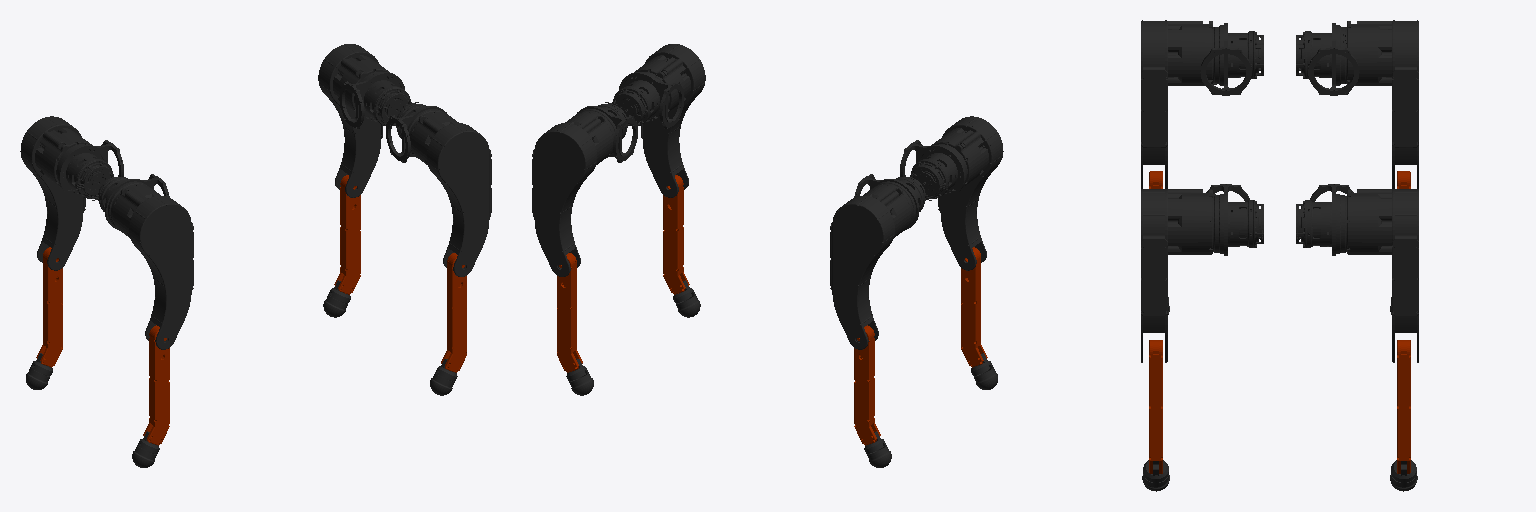
The robot description file, URDF, robot "tekirV3":
<?xml version="1.0" encoding="utf-8"?>
<!-- All knees looks in the same direction -->
<robot name="tekirV3">

  <material name="black">
    <color rgba="0.2 0.2 0.2 1"/>
  </material>
  <material name="auburn" >
    <color rgba="0.6039215686274509 0.18823529411764706 0.00392156862745098 1" />
  </material>
  <material name="olivedrab" >
    <color rgba="0.43529411764705883 0.4627450980392157 0.19607843137254902 1" />
  </material>
  
  <link name="torso">
	  <inertial>
     <origin xyz="0.00145 0.003271 0.01792" rpy="0 0 0"/>  <!-- 0.00145 0.003271 0.01792 -->
     <mass value="20.516"/>
     <inertia ixx="0.41"  ixy="0.003"  ixz="-0.012" iyy="0.908" iyz="0.007" izz="1.192" />
    </inertial>
    <visual>
     <origin xyz="0 0 0" rpy="0 0 0" />
     <geometry>
      <mesh filename="../mesh/torso_rs.stl" scale="0.001 0.001 0.001"/>
     </geometry>
     <material name="black"></material>
    </visual>
    <collision>
     <origin xyz="0 0 0" rpy="0 0 0"/>
     <geometry>
       <box size="0.576 0.358 0.202"/>
     </geometry>
    </collision> 
  </link>

  <!-- Leg LF -->

  <link name="HIP_FE_Motor_lf">
	  <inertial>
     <origin xyz="0.075283 -0.015862 -0.000015" rpy="0 0 0"/>
     <mass value="1.681"/>
     <inertia ixx="0.003"  ixy="9.851e-5"  ixz="-1.213e-6" iyy="0.003" iyz="-1.327e-6" izz="0.003" />
    </inertial>
	  <visual>
     <origin xyz="0.079 0 0" rpy="0 0 1.57079632679" />
     <geometry>
       <mesh filename="../mesh/actuator_hip_fe.stl" scale="0.001 0.001 0.001"/>
     </geometry>
     <material name="black"></material>
    </visual>
	  <collision>
     <origin xyz="0.079 -0.0264 0" rpy="1.57079632679 0 0"/>
     <geometry>
       <cylinder radius="0.0625" length="0.1052"/>
     </geometry>
    </collision>
  </link>

  <link name="thigh_lf">
	  <inertial>
     <origin xyz="-0.003917 0.076506 -0.013793" rpy="0 0 0"/>
     <mass value="2.005"/>
     <inertia ixx="0.008"  ixy="-1.818e-4"  ixz="5.307e-4" iyy="0.007" iyz="0.001" izz="0.004" />
    </inertial>
	  <visual>
     <origin xyz="0 0 0" rpy="0 0 0" />
     <geometry>
       <mesh filename="../mesh/thigh_L.stl" scale="0.001 0.001 0.001"/>
     </geometry>
     <material name="black"></material>
    </visual>
	  <collision>
     <origin xyz="0 0.1136015 -0.135" rpy="0 0 0"/>
     <geometry>
       <box size="0.04 0.053203 0.27"/>
     </geometry>
    </collision>
  </link>

  <link name="shank_lf">
	  <inertial>
     <origin xyz="-0.015346 -0.000102 -0.186842" rpy="0 0 0"/>
     <mass value="0.21"/>
     <inertia ixx="0.002"  ixy="-7.048e-7"  ixz="-2.682e-4" iyy="0.002" iyz="-1.088e-5" izz="1.086e-4" />
    </inertial>
	  <visual>
     <origin xyz="0 0 0" rpy="0 0 1.57079632679" />
     <geometry>
       <mesh filename="../mesh/shank.stl" scale="0.001 0.001 0.001"/>
     </geometry>
     <material name="auburn"></material>
    </visual>
	  <collision>
     <origin xyz="0 0 -0.112141" rpy="0 0 0"/>
     <geometry>
       <box size="0.04 0.026 0.224282"/> 
     </geometry>
    </collision>
  </link>

  <link name="foot_lf">
	  <inertial>
     <origin xyz="0 0 -0.003546" rpy="0 0 0"/>
     <mass value="0"/>
     <inertia ixx="0"  ixy="0"  ixz="0" iyy="0" iyz="0" izz="0" />
    </inertial>
	  <visual>
     <origin xyz="0 0 -0.043933" rpy="0 0 0" />
     <geometry>
       <mesh filename="../mesh/foot.stl" scale="0.001 0.001 0.001"/>
     </geometry>
     <material name="black"></material>
    </visual>
	  <collision>
     <origin xyz="0 0 -0.080131" rpy="0 0 0"/>
     <geometry>
       <sphere radius="0.027"/>
     </geometry>
    </collision>
  </link>

  <!-- Leg RF -->

  <link name="HIP_FE_Motor_rf">
	  <inertial>
     <origin xyz="0.075283 0.015862 -0.000015" rpy="0 0 0"/>
     <mass value="1.681"/>
     <inertia ixx="0.003"  ixy="9.851e-5"  ixz="-1.213e-6" iyy="0.003" iyz="-1.327e-6" izz="0.003" />
    </inertial>
	  <visual>
     <origin xyz="0.079 0 0" rpy="3.14159265 0 -1.57079632679" />
     <geometry>
       <mesh filename="../mesh/actuator_hip_fe.stl" scale="0.001 0.001 0.001"/>
     </geometry>
     <material name="black"></material>
    </visual>
	  <collision>
     <origin xyz="0.079 0.0264 0" rpy="1.57079632679 0 0"/>
     <geometry>
       <cylinder radius="0.0625" length="0.1052"/>
     </geometry>
    </collision>
  </link>

  <link name="thigh_rf">
	  <inertial>
     <origin xyz="-0.003917 -0.076506 -0.013793" rpy="0 0 0"/>
     <mass value="2.005"/>
     <inertia ixx="0.008"  ixy="-1.818e-4"  ixz="5.307e-4" iyy="0.007" iyz="0.001" izz="0.004" />
    </inertial>
	  <visual>
     <origin xyz="0 0 0" rpy="0 0 0" />
     <geometry>
       <mesh filename="../mesh/thigh_R.stl" scale="0.001 0.001 0.001"/>
     </geometry>
     <material name="black"></material>
    </visual>
	  <collision>
     <origin xyz="0 -0.1136015 -0.135" rpy="0 0 0"/>
     <geometry>
       <box size="0.04 0.053203 0.27"/>
     </geometry>
    </collision>
  </link>

  <link name="shank_rf">
	  <inertial>
     <origin xyz="-0.015346 0.000102 -0.186842" rpy="0 0 0"/>
     <mass value="0.21"/>
     <inertia ixx="0.002"  ixy="-7.048e-7"  ixz="-2.682e-4" iyy="0.002" iyz="-1.088e-5" izz="1.086e-4" />
    </inertial>
	  <visual>
     <origin xyz="0 0 0" rpy="0 0 1.57079632679" />
     <geometry>
       <mesh filename="../mesh/shank.stl" scale="0.001 0.001 0.001"/>
     </geometry>
     <material name="auburn"></material>
    </visual>
	  <collision>
     <origin xyz="0 0 -0.112141" rpy="0 0 0"/>
     <geometry>
       <box size="0.04 0.026 0.224282"/>
     </geometry>
    </collision>
  </link>

  <link name="foot_rf">
	  <inertial>
     <origin xyz="0 0 -0.003546" rpy="0 0 0"/>
     <mass value="0"/>
     <inertia ixx="0"  ixy="0"  ixz="0" iyy="0" iyz="0" izz="0" />
    </inertial>
	  <visual>
     <origin xyz="0 0 -0.043933" rpy="0 0 0" />
     <geometry>
       <mesh filename="../mesh/foot.stl" scale="0.001 0.001 0.001"/>
     </geometry>
     <material name="black"></material>
    </visual>
	  <collision>
     <origin xyz="0 0 -0.080131" rpy="0 0 0"/>
     <geometry>
       <sphere radius="0.027"/>
     </geometry>
    </collision>
  </link>

  <!-- Leg LB -->

  <link name="HIP_FE_Motor_lb">
	  <inertial>
     <origin xyz="-0.075283 -0.015862 -0.000015" rpy="0 0 0"/>
     <mass value="1.681"/>
     <inertia ixx="0.003"  ixy="9.851e-5"  ixz="-1.213e-6" iyy="0.003" iyz="-1.327e-6" izz="0.003" />
    </inertial>
	  <visual>
     <origin xyz="-0.079 0 0" rpy="0 3.14159265 -1.57079632679" />
     <geometry>
       <mesh filename="../mesh/actuator_hip_fe.stl" scale="0.001 0.001 0.001"/>
     </geometry>
     <material name="black"></material>
    </visual>
	  <collision>
     <origin xyz="-0.079 -0.0264 0" rpy="1.57079632679 0 0"/>
     <geometry>
       <cylinder radius="0.0625" length="0.1052"/>
     </geometry>
    </collision>
  </link>

  <link name="thigh_lb">
	  <inertial>
     <origin xyz="0.003917 0.076506 -0.013793" rpy="0 0 0"/>
     <mass value="2.005"/>
     <inertia ixx="0.008"  ixy="-1.818e-4"  ixz="5.307e-4" iyy="0.007" iyz="0.001" izz="0.004" />
    </inertial>
	  <visual>
     <origin xyz="0 0 0" rpy="0 0 0" />
     <geometry>
       <mesh filename="../mesh/thigh_L.stl" scale="0.001 0.001 0.001"/>
     </geometry>
     <material name="black"></material>
    </visual>
	  <collision>
     <origin xyz="0 0.1136015 -0.135" rpy="0 0 0"/>
     <geometry>
       <box size="0.04 0.053203 0.27"/>
     </geometry>
    </collision>
  </link>

  <link name="shank_lb">
	  <inertial>
     <origin xyz="-0.015346 -0.000102 -0.186842" rpy="0 0 0"/>
     <mass value="0.21"/>
     <inertia ixx="0.002"  ixy="-7.048e-7"  ixz="-2.682e-4" iyy="0.002" iyz="-1.088e-5" izz="1.086e-4" />
    </inertial>
	  <visual>
     <origin xyz="0 0 0" rpy="0 0 1.57079632679" />
     <geometry>
       <mesh filename="../mesh/shank.stl" scale="0.001 0.001 0.001"/>
     </geometry>
     <material name="auburn"></material>
    </visual>
	  <collision>
     <origin xyz="0 0 -0.112141" rpy="0 0 0"/>
     <geometry>
       <box size="0.04 0.026 0.224282"/>
     </geometry>
    </collision>
  </link>

  <link name="foot_lb">
	  <inertial>
     <origin xyz="0 0 -0.003546" rpy="0 0 0"/>
     <mass value="0"/>
     <inertia ixx="0"  ixy="0"  ixz="0" iyy="0" iyz="0" izz="0" />
    </inertial>
	  <visual>
     <origin xyz="0 0 -0.043933" rpy="0 0 0" />
     <geometry>
       <mesh filename="../mesh/foot.stl" scale="0.001 0.001 0.001"/>
     </geometry>
     <material name="black"></material>
    </visual>
	  <collision>
     <origin xyz="0 0 -0.080131" rpy="0 0 0"/>
     <geometry>
       <sphere radius="0.027"/>
     </geometry>
    </collision>
  </link>

  <!-- Leg RB -->

  <link name="HIP_FE_Motor_rb">
	  <inertial>
     <origin xyz="-0.075283 0.015862 -0.000015" rpy="0 0 0"/>
     <mass value="1.681"/>
     <inertia ixx="0.003"  ixy="9.851e-5"  ixz="-1.213e-6" iyy="0.003" iyz="-1.327e-6" izz="0.003" />
    </inertial>
	  <visual>
     <origin xyz="-0.079 0 0" rpy="0 0 -1.57079632679" />
     <geometry>
       <mesh filename="../mesh/actuator_hip_fe.stl" scale="0.001 0.001 0.001"/>
     </geometry>
     <material name="black"></material>
    </visual>
	  <collision>
     <origin xyz="-0.079 0.0264 0" rpy="1.57079632679 0 0"/>
     <geometry>
       <cylinder radius="0.0625" length="0.1052"/>
     </geometry>
    </collision>
  </link>

  <link name="thigh_rb">
	  <inertial>
     <origin xyz="0.003917 -0.076506 -0.013793" rpy="0 0 0"/>
     <mass value="2.005"/>
     <inertia ixx="0.008"  ixy="-1.818e-4"  ixz="5.307e-4" iyy="0.007" iyz="0.001" izz="0.004" />
    </inertial>
	  <visual>
     <origin xyz="0 0 0" rpy="0 0 0" />
     <geometry>
       <mesh filename="../mesh/thigh_R.stl" scale="0.001 0.001 0.001"/>
     </geometry>
     <material name="black"></material>
    </visual>
	  <collision>
     <origin xyz="0 -0.1136015 -0.135" rpy="0 0 0"/>
     <geometry>
       <box size="0.04 0.053203 0.27"/>
     </geometry>
    </collision>
  </link>
  
  <link name="shank_rb">
	  <inertial>
     <origin xyz="-0.015346 0.000102 -0.186842" rpy="0 0 0"/>
     <mass value="0.21"/>
     <inertia ixx="0.002"  ixy="-7.048e-7"  ixz="-2.682e-4" iyy="0.002" iyz="-1.088e-5" izz="1.086e-4" />
    </inertial>
	  <visual>
     <origin xyz="0 0 0" rpy="0 0 1.57079632679" />
     <geometry>
       <mesh filename="../mesh/shank.stl" scale="0.001 0.001 0.001"/>
     </geometry>
     <material name="auburn"></material>
    </visual>
	  <collision>
     <origin xyz="0 0 -0.112141" rpy="0 0 0"/>
     <geometry>
       <box size="0.04 0.026 0.224282"/>
     </geometry>
    </collision>
  </link>

  <link name="foot_rb">
	  <inertial>
     <origin xyz="0 0 -0.003546" rpy="0 0 0"/>
     <mass value="0"/>
     <inertia ixx="0"  ixy="0"  ixz="0" iyy="0" iyz="0" izz="0" />
    </inertial>
	  <visual>
     <origin xyz="0 0 -0.043933" rpy="0 0 0" />
     <geometry>
       <mesh filename="../mesh/foot.stl" scale="0.001 0.001 0.001"/>
     </geometry>
     <material name="black"></material>
    </visual>
	  <collision>
     <origin xyz="0 0 -0.080131" rpy="0 0 0"/>
     <geometry>
       <sphere radius="0.027"/>
     </geometry>
    </collision>
  </link>

  
  <!-- Joints -->

  <!-- LEG LF -->

  <joint name="Joint_HIP_AA_lf" type="revolute">
    <parent link="torso"/>
    <child link="HIP_FE_Motor_lf"/>
    <axis xyz="1 0 0"/>
    <origin xyz="0.3102 0.105 0.002" rpy="0 0 0"/>
    <limit effort="50" lower="0" upper="0" velocity="8.29031393750349"/>
    <dynamics damping="0.0" friction="0.0"/>
  </joint>

  <joint name="Joint_HIP_FE_lf" type="revolute">
    <parent link="HIP_FE_Motor_lf"/>
    <child link="thigh_lf"/>
    <axis xyz="0 1 0"/>
    <origin xyz="0.079 0.0262 0" rpy="0 0 0"/>
    <limit effort="50" lower="0" upper="0" velocity="8.29031393750349"/>
    <dynamics damping="0.0" friction="0.0"/>
  </joint>

  <joint name="Joint_KNEE_FE_lf" type="revolute">
    <parent link="thigh_lf"/>
    <child link="shank_lf"/>
    <axis xyz="0 1 0"/>
    <origin xyz="0 0.1102 -0.27" rpy="0 0 0"/>
    <limit effort="50" lower="0" upper="0" velocity="8.29031393750349"/>
    <dynamics damping="0.0" friction="0.0"/>
  </joint>

  <joint name="footFrame_lf" type="fixed"> 
    <parent link="shank_lf"/>
    <child link="foot_lf"/>
    <axis xyz="0 0 0"/>
    <origin xyz="0 0 -0.224282" rpy="0 0.52359877559 0"/>  <!-- 0.52359877559 -->
  </joint>

  <!-- LEG RF -->

  <joint name="Joint_HIP_AA_rf" type="revolute">
    <parent link="torso"/>
    <child link="HIP_FE_Motor_rf"/>
    <axis xyz="1 0 0"/>
    <origin xyz="0.3102 -0.105 0.002" rpy="0 0 0"/>
    <limit effort="50" lower="0" upper="0" velocity="8.29031393750349"/>
    <dynamics damping="0.0" friction="0.0"/>
  </joint>

  <joint name="Joint_HIP_FE_rf" type="revolute">
    <parent link="HIP_FE_Motor_rf"/>
    <child link="thigh_rf"/>
    <axis xyz="0 -1 0"/>
    <origin xyz="0.079 -0.0262 0" rpy="0 0 0"/>
    <limit effort="50" lower="0" upper="0" velocity="8.29031393750349"/>
    <dynamics damping="0.0" friction="0.0"/>
  </joint>

  <joint name="Joint_KNEE_FE_rf" type="revolute">
    <parent link="thigh_rf"/>
    <child link="shank_rf"/>
    <axis xyz="0 -1 0"/>
    <origin xyz="0 -0.1102 -0.27" rpy="0 0 0"/>
    <limit effort="50" lower="0" upper="0" velocity="8.29031393750349"/>
    <dynamics damping="0.0" friction="0.0"/>
  </joint>

  <joint name="footFrame_rf" type="fixed">
    <parent link="shank_rf"/>
    <child link="foot_rf"/>
    <axis xyz="0 0 0"/>
    <origin xyz="0 0 -0.224282" rpy="0 0.52359877559 0"/>
  </joint>

  <!-- LEG LB -->

  <joint name="Joint_HIP_AA_lb" type="revolute">
    <parent link="torso"/>
    <child link="HIP_FE_Motor_lb"/>
    <axis xyz="-1 0 0"/>
    <origin xyz="-0.3102 0.105 0.002" rpy="0 0 0"/>
    <limit effort="50" lower="0" upper="0" velocity="8.29031393750349"/>
    <dynamics damping="0.0" friction="0.0"/>
  </joint>

  <joint name="Joint_HIP_FE_lb" type="revolute">
    <parent link="HIP_FE_Motor_lb"/>
    <child link="thigh_lb"/>
    <axis xyz="0 1 0"/>
    <origin xyz="-0.079 0.0262 0" rpy="0 0 0"/>
    <limit effort="50" lower="0" upper="0" velocity="8.29031393750349"/>
    <dynamics damping="0.0" friction="0.0"/>
  </joint>

  <joint name="Joint_KNEE_FE_lb" type="revolute">
    <parent link="thigh_lb"/>
    <child link="shank_lb"/>
    <axis xyz="0 1 0"/>
    <origin xyz="0 0.1102 -0.27" rpy="0 0 0"/>
    <limit effort="50" lower="0" upper="0" velocity="8.29031393750349"/>
    <dynamics damping="0.0" friction="0.0"/>
  </joint>

  <joint name="footFrame_lb" type="fixed">
    <parent link="shank_lb"/>
    <child link="foot_lb"/>
    <axis xyz="0 0 0"/>
    <origin xyz="0 0 -0.224282" rpy="0 0.52359877559 0"/>
  </joint>

  <!-- LEG RB -->
  
  <joint name="Joint_HIP_AA_rb" type="revolute">
    <parent link="torso"/>
    <child link="HIP_FE_Motor_rb"/>
    <axis xyz="-1 0 0"/>
    <origin xyz="-0.3102 -0.105 0.002" rpy="0 0 0"/>
    <limit effort="50" lower="0" upper="0" velocity="8.29031393750349"/>
    <dynamics damping="0.0" friction="0.0"/>
  </joint>

  <joint name="Joint_HIP_FE_rb" type="revolute">
    <parent link="HIP_FE_Motor_rb"/>
    <child link="thigh_rb"/>
    <axis xyz="0 -1 0"/>
    <origin xyz="-0.079 -0.0262 0" rpy="0 0 0"/>
    <limit effort="50" lower="0" upper="0" velocity="8.29031393750349"/>
    <dynamics damping="0.0" friction="0.0"/>
  </joint>  
  
  <joint name="Joint_KNEE_FE_rb" type="revolute">
    <parent link="thigh_rb"/>
    <child link="shank_rb"/>
    <axis xyz="0 -1 0"/>
    <origin xyz="0 -0.1102 -0.27" rpy="0 0 0"/>
    <limit effort="50" lower="0" upper="0" velocity="8.29031393750349"/>
    <dynamics damping="0.0" friction="0.0"/>
  </joint>

  <joint name="footFrame_rb" type="fixed">
    <parent link="shank_rb"/>
    <child link="foot_rb"/>
    <axis xyz="0 0 0"/>
    <origin xyz="0 0 -0.224282" rpy="0 0.52359877559 0"/>
  </joint>

</robot>

--- Render facts (derived) ---
The picture shows the robot from 3 angles, left to right: view 1: azimuth 30°, elevation 25°; view 2: azimuth 150°, elevation 25°; view 3: azimuth 270°, elevation 25°; orthographic projection.
Model tekirV3 with 17 links and 16 joints (12 revolute, 4 fixed), rooted at torso, posed every joint at zero.
Links seen in each view (by area): view 1: thigh_rf, thigh_rb, thigh_lb, thigh_lf, HIP_FE_Motor_lf, HIP_FE_Motor_lb, shank_rb, shank_lf, shank_rf, shank_lb, HIP_FE_Motor_rf, HIP_FE_Motor_rb (+4 smaller); view 2: thigh_lf, thigh_lb, thigh_rb, thigh_rf, HIP_FE_Motor_rf, HIP_FE_Motor_rb, shank_lb, shank_rf, shank_lf, shank_rb, HIP_FE_Motor_lf, HIP_FE_Motor_lb (+4 smaller); view 3: thigh_lf, thigh_rf, thigh_lb, thigh_rb, HIP_FE_Motor_rb, HIP_FE_Motor_lb, HIP_FE_Motor_rf, HIP_FE_Motor_lf, shank_lf, shank_rf, foot_lf, foot_rf.
Link boxes in pixels (x1,y1,x2,y2): thigh_rf: [410, 112, 491, 276]; thigh_rb: [113, 185, 193, 349]; thigh_lb: [20, 116, 91, 270]; thigh_lf: [318, 44, 388, 197]; HIP_FE_Motor_lf: [339, 72, 418, 128]; HIP_FE_Motor_lb: [56, 140, 123, 198]; shank_rb: [143, 325, 169, 445]; shank_lf: [334, 175, 360, 294]; shank_rf: [441, 253, 466, 372]; shank_lb: [36, 247, 62, 367]; HIP_FE_Motor_rf: [386, 104, 446, 162]; HIP_FE_Motor_rb: [91, 174, 169, 230]; thigh_lf: [532, 112, 613, 276]; thigh_lb: [830, 185, 910, 349]; thigh_rb: [932, 116, 1003, 270]; thigh_rf: [635, 44, 705, 197]; HIP_FE_Motor_rf: [605, 72, 684, 128]; HIP_FE_Motor_rb: [900, 140, 967, 198]; shank_lb: [854, 325, 880, 445]; shank_rf: [663, 175, 689, 294]; shank_lf: [557, 253, 582, 372]; shank_rb: [961, 247, 987, 367]; HIP_FE_Motor_lf: [577, 104, 637, 162]; HIP_FE_Motor_lb: [854, 174, 932, 230]; thigh_lf: [1347, 189, 1418, 362]; thigh_rf: [1141, 189, 1212, 362]; thigh_lb: [1347, 20, 1418, 188]; thigh_rb: [1141, 20, 1212, 188]; HIP_FE_Motor_rb: [1200, 23, 1263, 95]; HIP_FE_Motor_lb: [1296, 23, 1359, 95]; HIP_FE_Motor_rf: [1206, 184, 1263, 255]; HIP_FE_Motor_lf: [1296, 184, 1353, 255]; shank_lf: [1397, 340, 1410, 473]; shank_rf: [1149, 340, 1162, 473]; foot_lf: [1390, 460, 1417, 491]; foot_rf: [1142, 460, 1169, 491].
Size in the robot's own frame: 0.9194 by 0.5428 by 0.6591 metres.
16 mesh visuals loaded from 6 distinct referenced files (5 binary STL); not drawn: 1 (reference not matched to a file when rendering).
